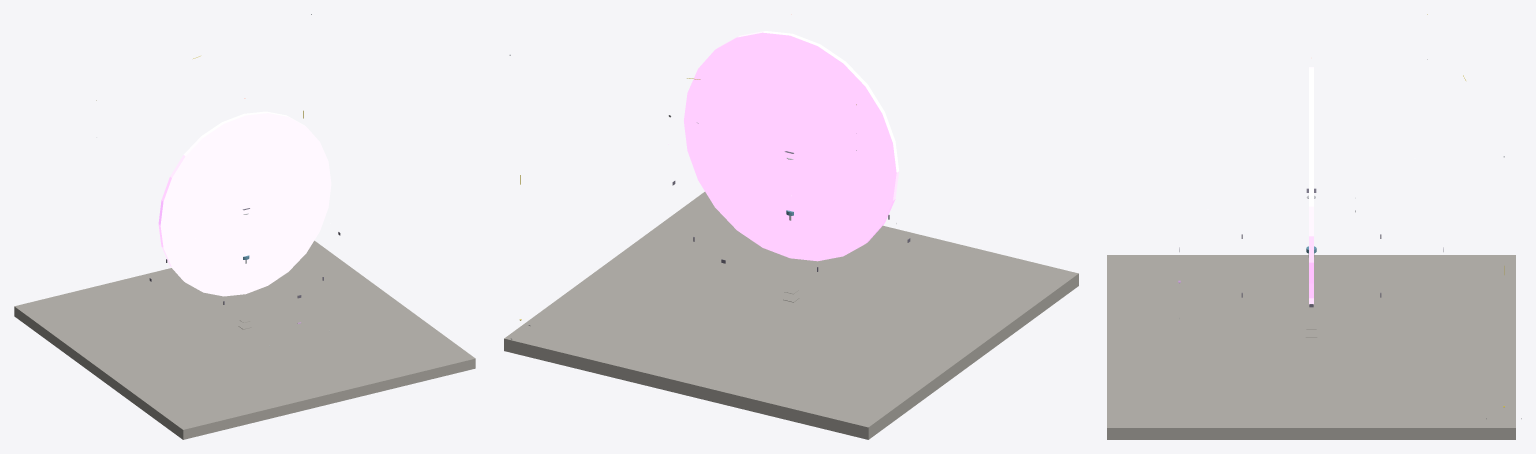
The model's file is deploy-pad.glb.
3 views of the same model, side by side, from view 1: azimuth 30°, elevation 25°; view 2: azimuth 150°, elevation 25°; view 3: azimuth 270°, elevation 25° (orthographic). The views are drawn at different scales.
Visible parts, largest first — view 1: DP_Pad, DP_LaunchRing; view 2: DP_Pad, DP_LaunchRing; view 3: DP_Pad, DP_LaunchRing.
Part boxes in pixels (x1,y1,x2,y2): DP_Pad: [14, 240, 475, 439]; DP_LaunchRing: [158, 111, 331, 296]; DP_Pad: [504, 192, 1078, 439]; DP_LaunchRing: [684, 31, 898, 261]; DP_Pad: [1107, 255, 1515, 439]; DP_LaunchRing: [1309, 67, 1313, 304].
Bounding box in the file's own units: 9.77 × 7.79 × 9.91.
